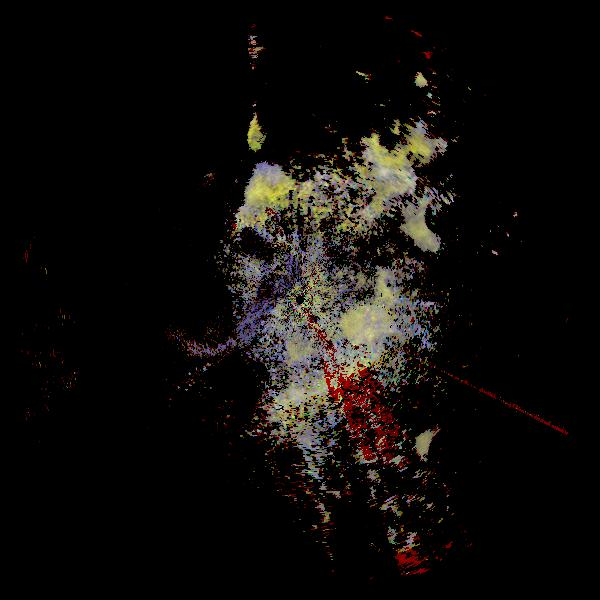roost: (406, 415, 484, 493), (401, 188, 467, 254)
